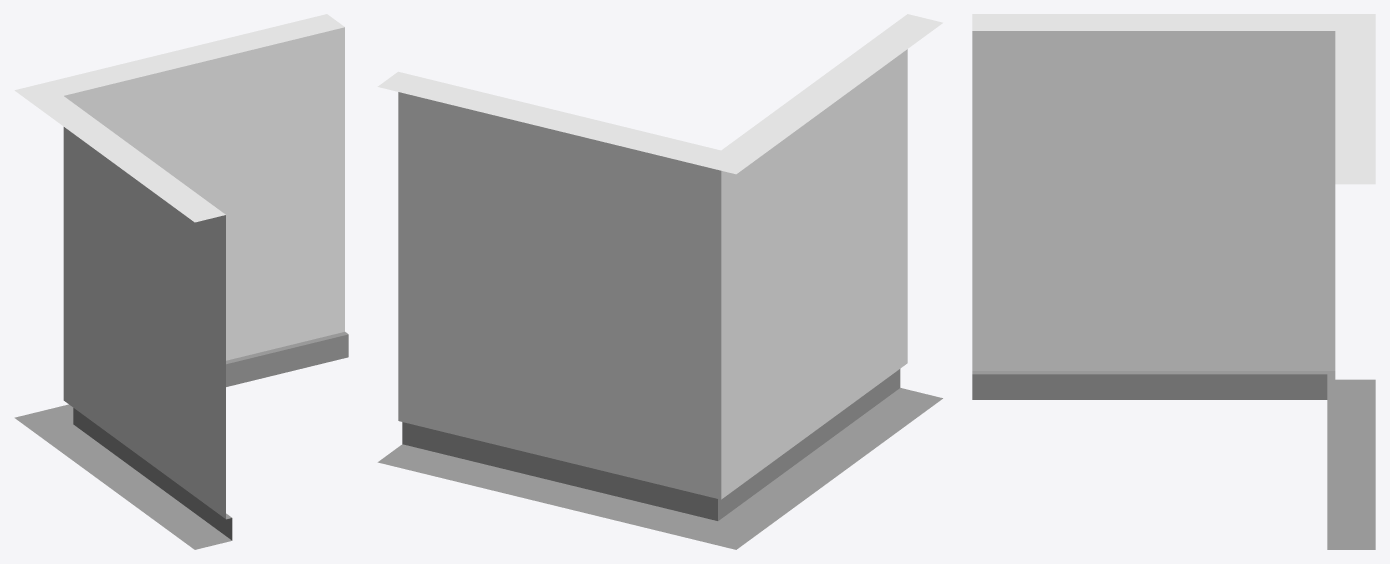
The model's file is Int-V2CornerHalfWallWhite.fbx.
3 views of the same model, side by side, from view 1: azimuth 30°, elevation 25°; view 2: azimuth 150°, elevation 25°; view 3: azimuth 270°, elevation 25° (orthographic). The views are drawn at different scales.
Visible parts, largest first — view 1: Int-V2CornerHalfWallWhite; view 2: Int-V2CornerHalfWallWhite; view 3: Int-V2CornerHalfWallWhite.
Boxes of the visible parts, <box> form: Int-V2CornerHalfWallWhite: <box>14,14,348,549</box>; Int-V2CornerHalfWallWhite: <box>377,14,942,549</box>; Int-V2CornerHalfWallWhite: <box>972,14,1375,549</box>.
Size of the model in its own units: 100 by 100 by 100.
